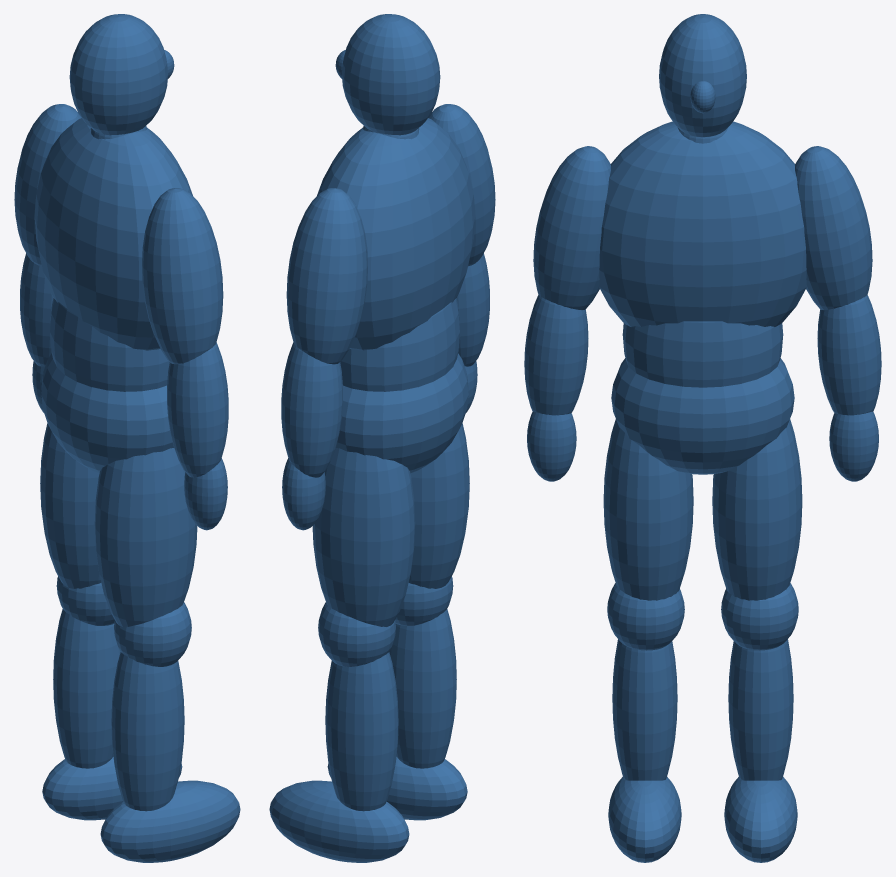
Rendered from person.dae.
3 renders of one model, left to right at view 1: azimuth 30°, elevation 25°; view 2: azimuth 150°, elevation 25°; view 3: azimuth 270°, elevation 25°, orthographic.
Visible parts, largest first — view 1: Person; view 2: Person; view 3: Person.
Part boxes in pixels (x1,y1,x2,y2): Person: (14,14,240,862); Person: (269,14,495,862); Person: (524,14,881,862).
Bounding box in the file's own units: 0.34 × 0.6899 × 1.75.
